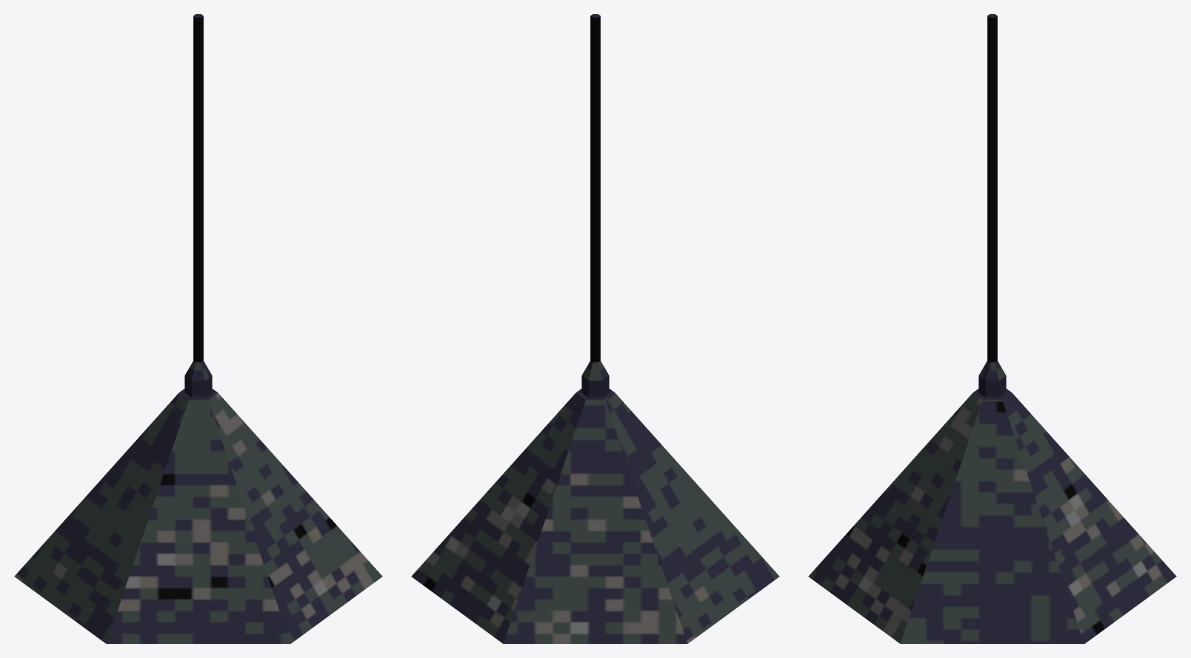
File: Lamp pedant cage.fbx
The picture shows the model from 3 angles, left to right: view 1: azimuth 30°, elevation 25°; view 2: azimuth 150°, elevation 25°; view 3: azimuth 270°, elevation 25°; orthographic projection.
Parts seen in each view (by area): view 1: Cone; view 2: Cone; view 3: Cone.
Part boxes in pixels (x1,y1,x2,y2): Cone: (14,14,382,643); Cone: (411,14,779,643); Cone: (808,14,1176,643).
Size of the model in its own units: 49.39 by 95.75 by 57.04.
Materials: 1 (1 with a texture image).
